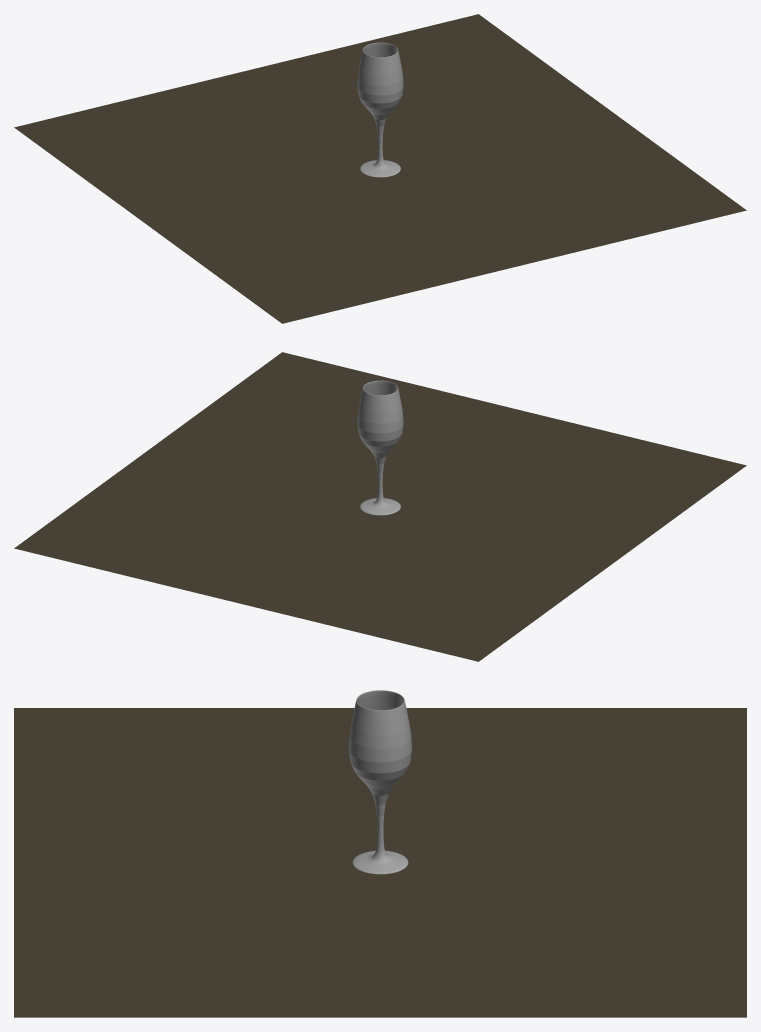
The model's file is WineGlasses6.obj.
3 renders of one model, top to bottom at view 1: azimuth 30°, elevation 25°; view 2: azimuth 150°, elevation 25°; view 3: azimuth 270°, elevation 25°, orthographic. The views are drawn at different scales.
Parts seen in each view (by area): view 1: Plane_Plane.004, Circle; view 2: Plane_Plane.004, Circle; view 3: Plane_Plane.004, Circle.
Boxes of the visible parts, x1,y1,x2,y2 form: Plane_Plane.004: (14,14,746,323); Circle: (357,42,403,177); Plane_Plane.004: (14,352,746,661); Circle: (357,380,403,515); Plane_Plane.004: (14,708,746,1017); Circle: (349,690,411,874).
Bounding box in the file's own units: 15.78 × 3.86 × 15.78.
